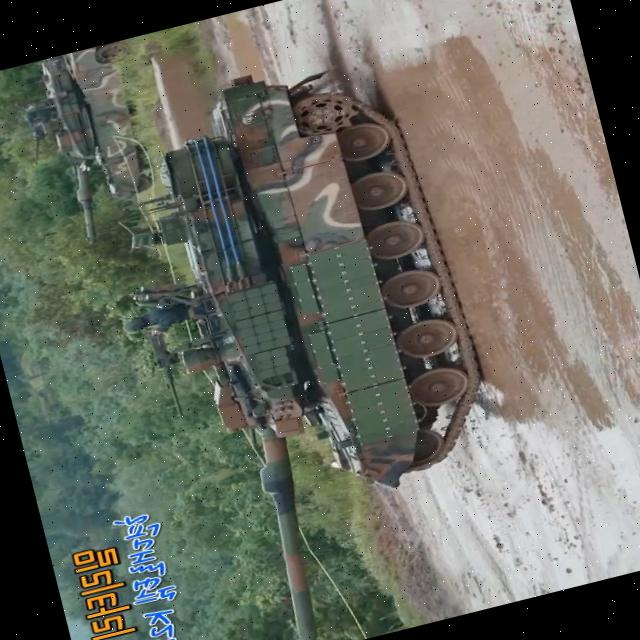korea tank: (61, 36, 535, 640)
